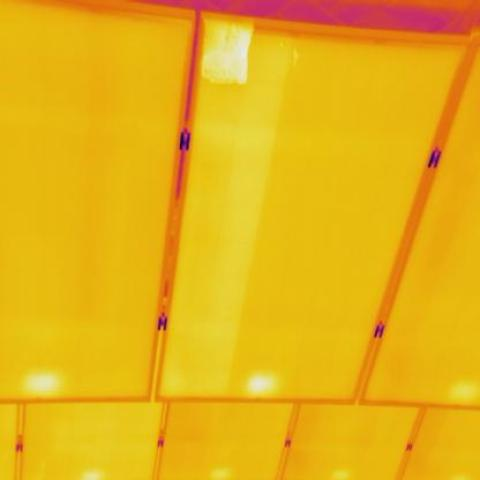fault: (205, 17, 244, 84), (32, 373, 66, 392), (247, 375, 275, 393)
